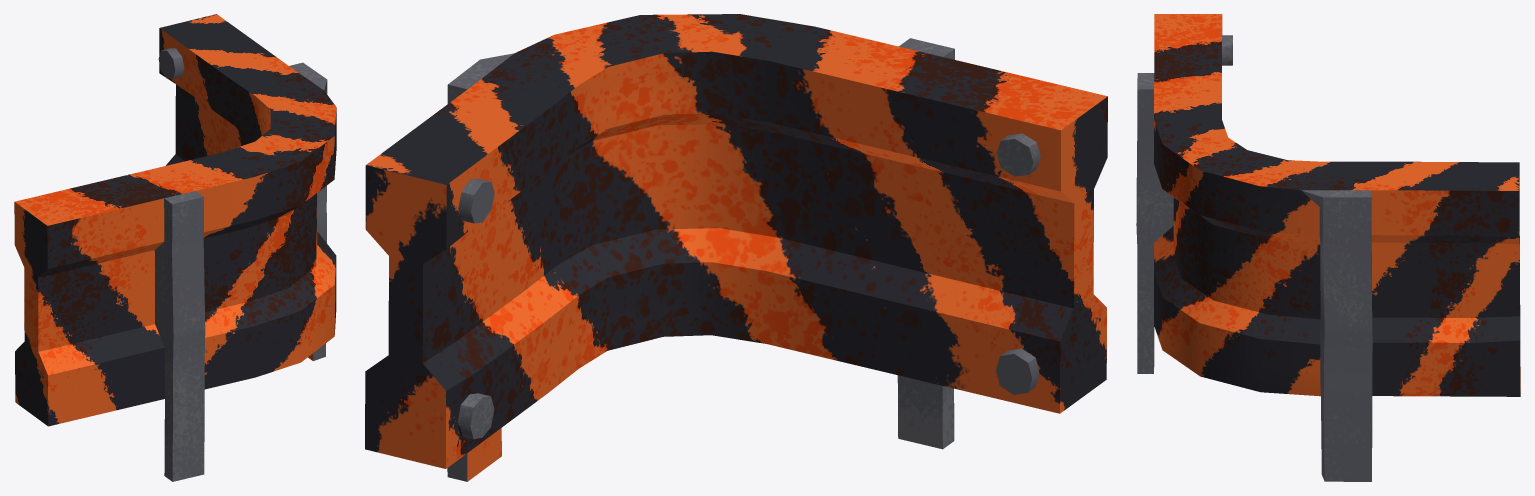
The model's file is guardrail(curved)_v02.fbx.
3 renders of one model, left to right at view 1: azimuth 30°, elevation 25°; view 2: azimuth 150°, elevation 25°; view 3: azimuth 270°, elevation 25°, orthographic. The views are drawn at different scales.
Visible parts, largest first — view 1: pasted__pasted__pasted__pCube3; view 2: pasted__pasted__pasted__pCube3; view 3: pasted__pasted__pasted__pCube3.
Part boxes in pixels (box(x1,y1,x2,y2)): pasted__pasted__pasted__pCube3: box(14, 14, 336, 481); pasted__pasted__pasted__pCube3: box(365, 14, 1107, 481); pasted__pasted__pasted__pCube3: box(1136, 14, 1520, 481).
Size of the model in its own units: 581 by 429 by 520.
